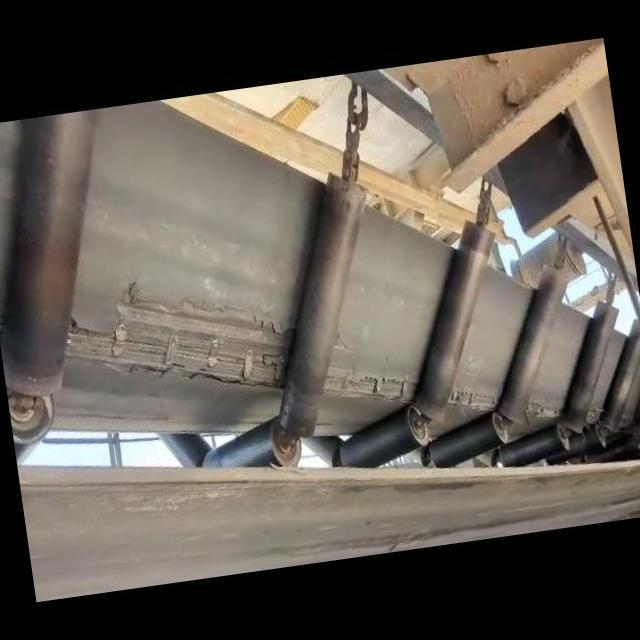Tear: (63, 278, 295, 394), (322, 323, 424, 405), (446, 382, 502, 418)
